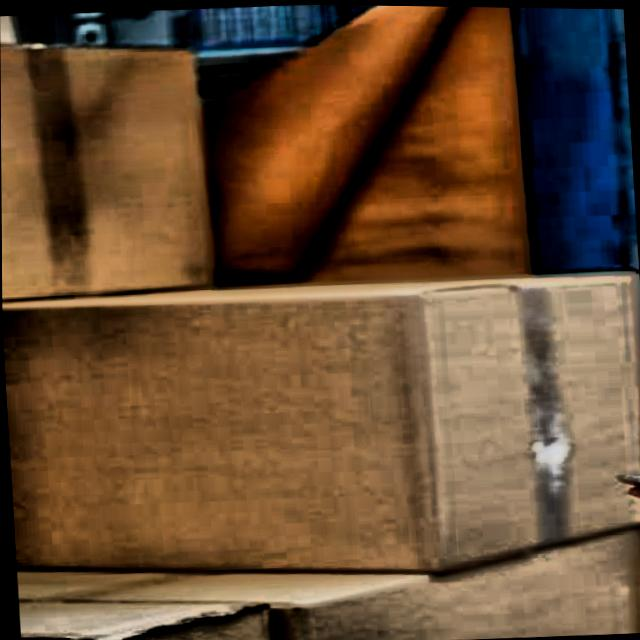Cardbox: (1, 246, 640, 594), (0, 21, 224, 318)
